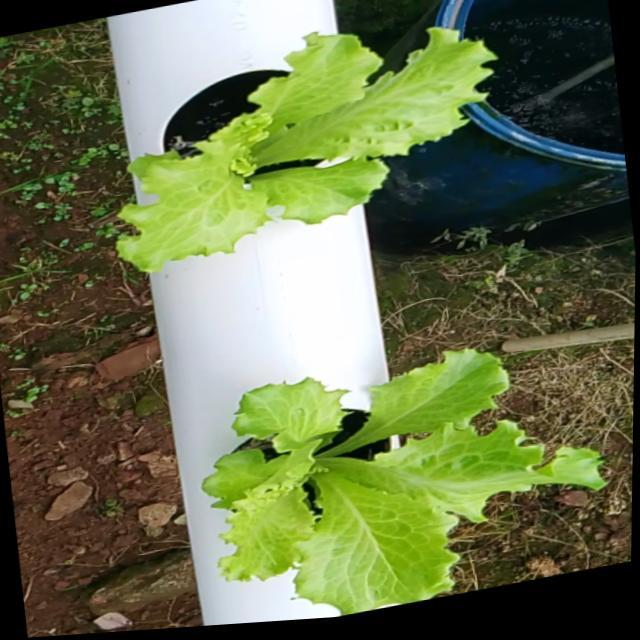Baby: (200, 340, 602, 612), (115, 18, 504, 266)
